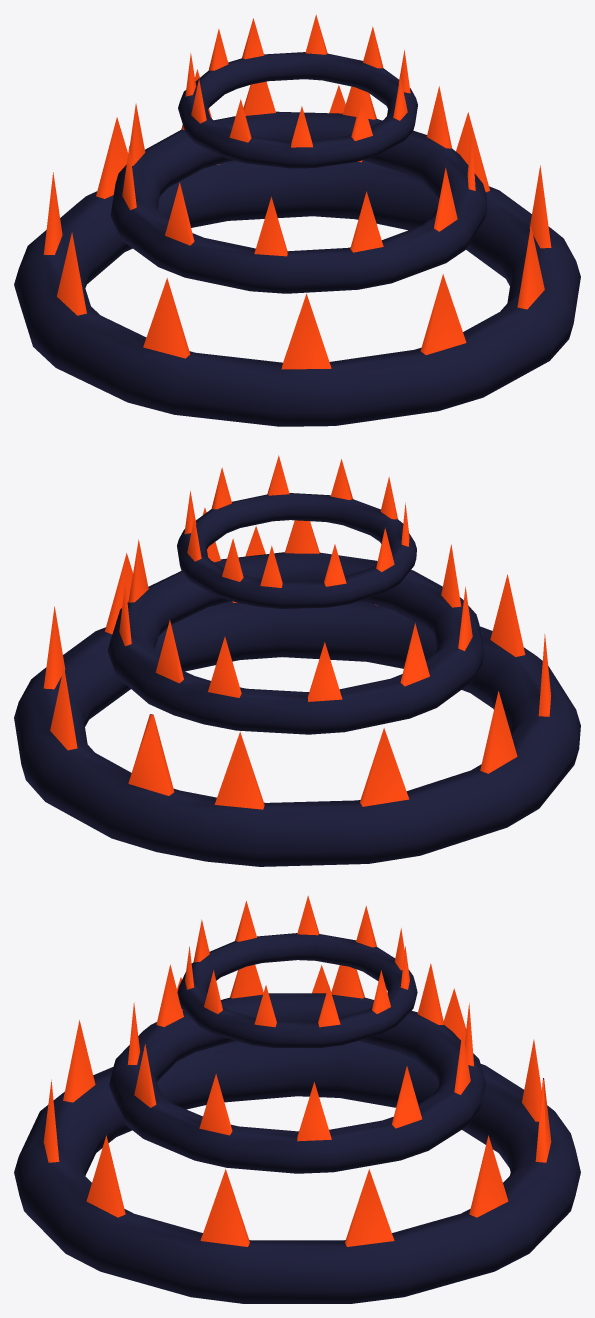
File: Mars_Hurdle_03.fbx
3 renders of one model, top to bottom at view 1: azimuth 30°, elevation 25°; view 2: azimuth 150°, elevation 25°; view 3: azimuth 270°, elevation 25°, orthographic.
Visible parts, largest first — view 1: Spike_Hurdle_4; view 2: Spike_Hurdle_4; view 3: Spike_Hurdle_4.
Boxes of the visible parts, bbox=[...] form: Spike_Hurdle_4: bbox=[14, 14, 580, 426]; Spike_Hurdle_4: bbox=[14, 455, 580, 866]; Spike_Hurdle_4: bbox=[14, 895, 580, 1303].
Size of the model in its own units: 173 by 84.41 by 175.
